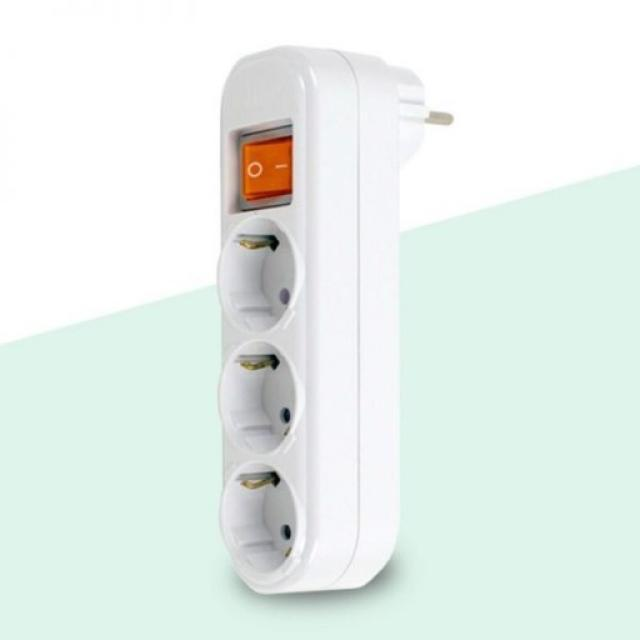typeb: (166, 47, 470, 599)
